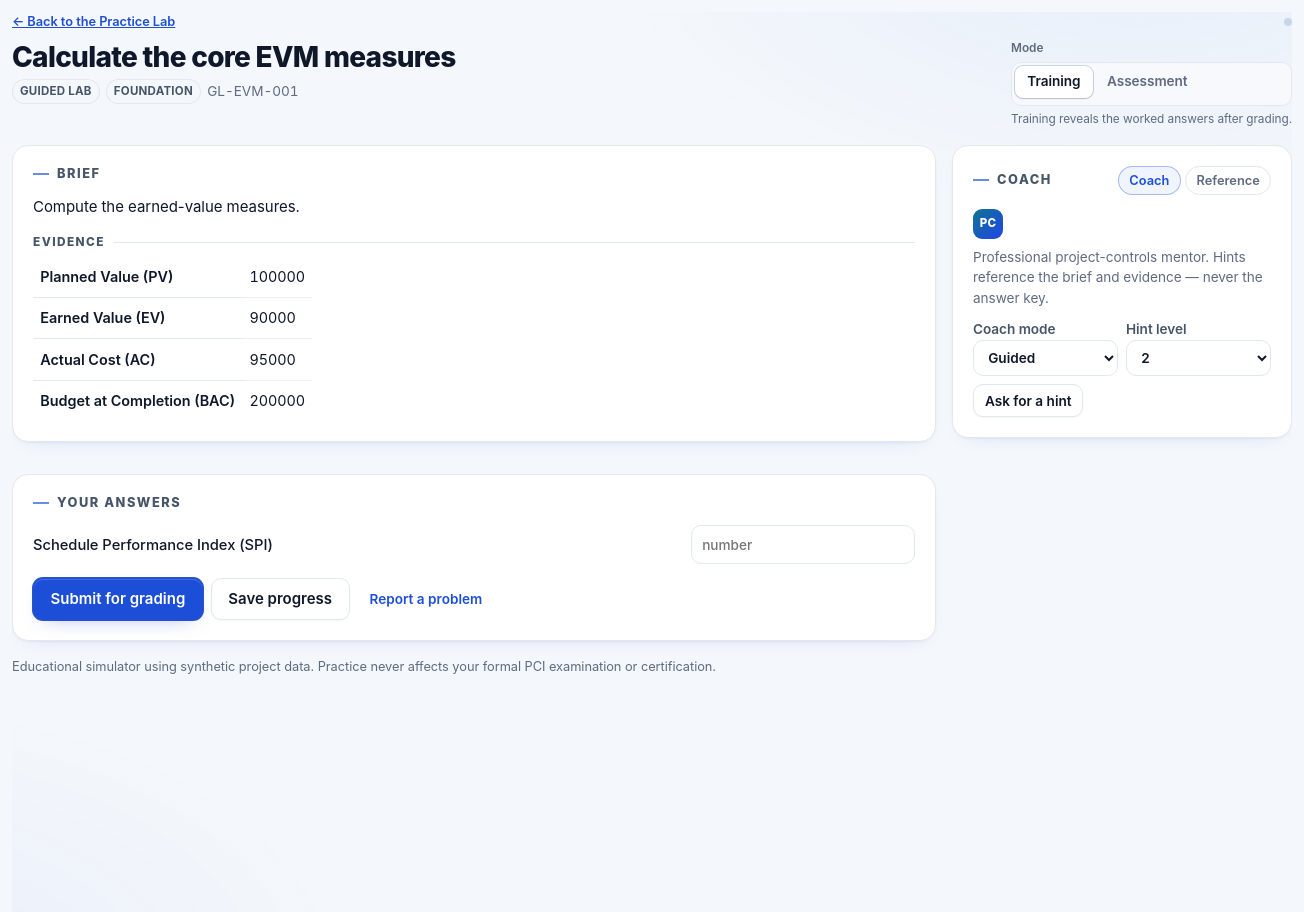
Scenario: LabRunner (Simulation Lab workspace) › surfaces the mastery recommendations in the debrief after grading
The image size is (1304, 912).
Expected: the text "Compute the earned-value measures." is shown, [33,197,300,216]
Step 1. Type "0.9" into the field with placeholder "number" → coordinates (803, 545), box [691,525,915,564]
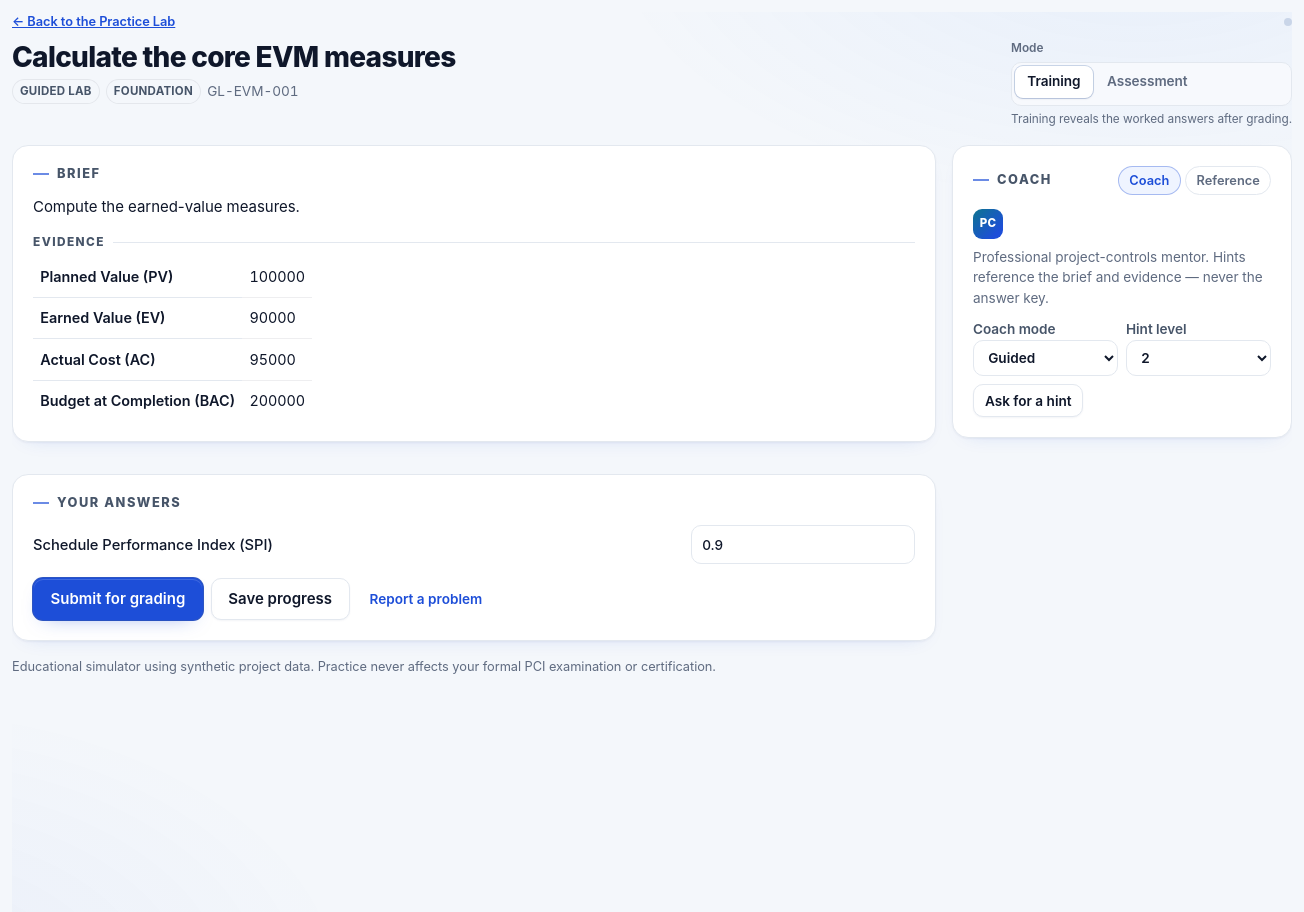
Step 2. Click the button "Submit for grading" → coordinates (118, 599), box [33,578,203,620]
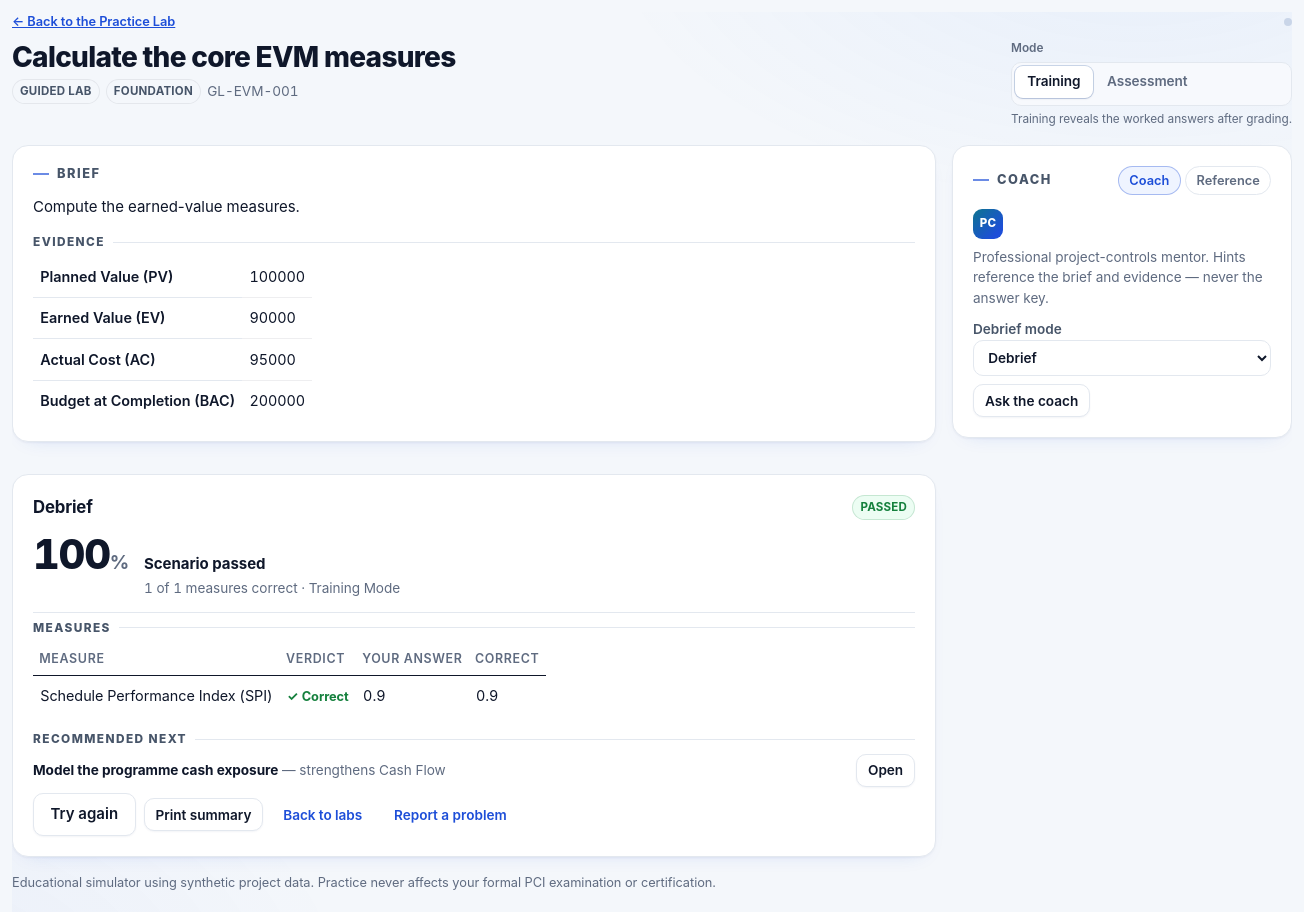
Now the heading "Recommended next" is shown, box [33,732,187,746]
Now the text "— strengthens Cash Flow" is shown, box [278,762,446,778]
